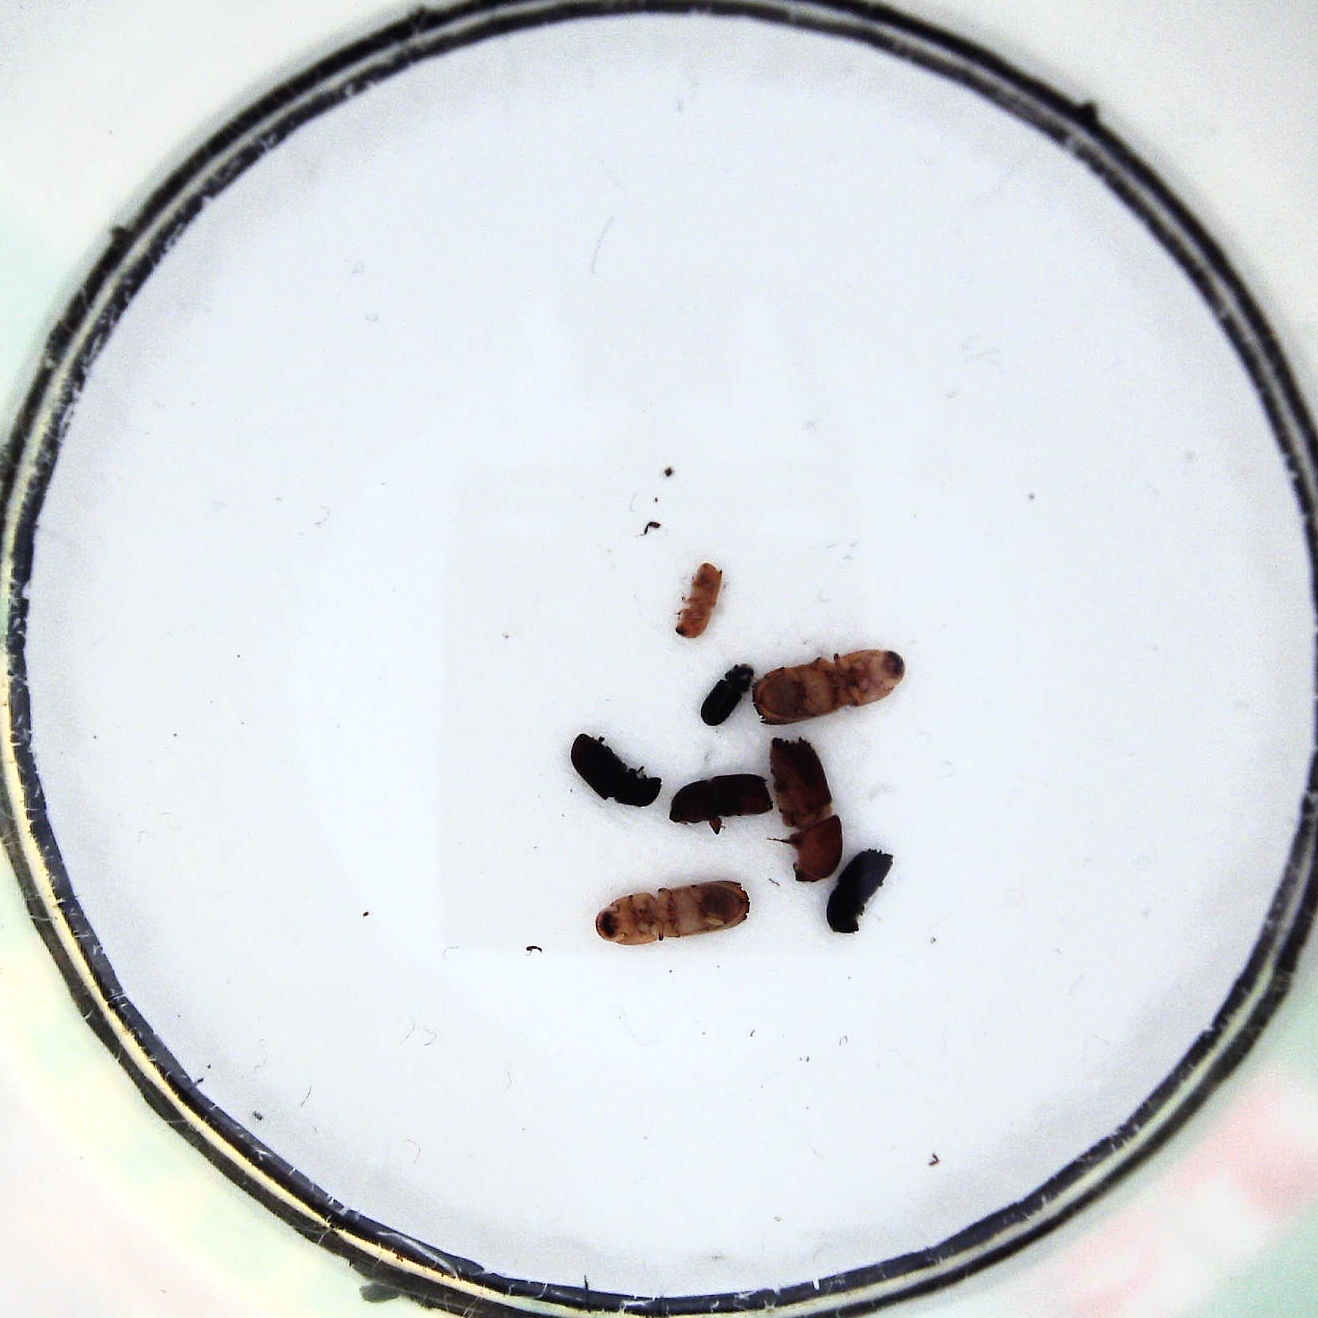Boerner: (754, 646, 906, 725), (770, 734, 842, 883), (596, 879, 752, 943)
Linnaeus: (666, 772, 772, 834), (828, 846, 896, 933)
acuminatus: (673, 558, 724, 638)
armandi: (568, 730, 664, 807)
coleoptera: (699, 664, 754, 725)
